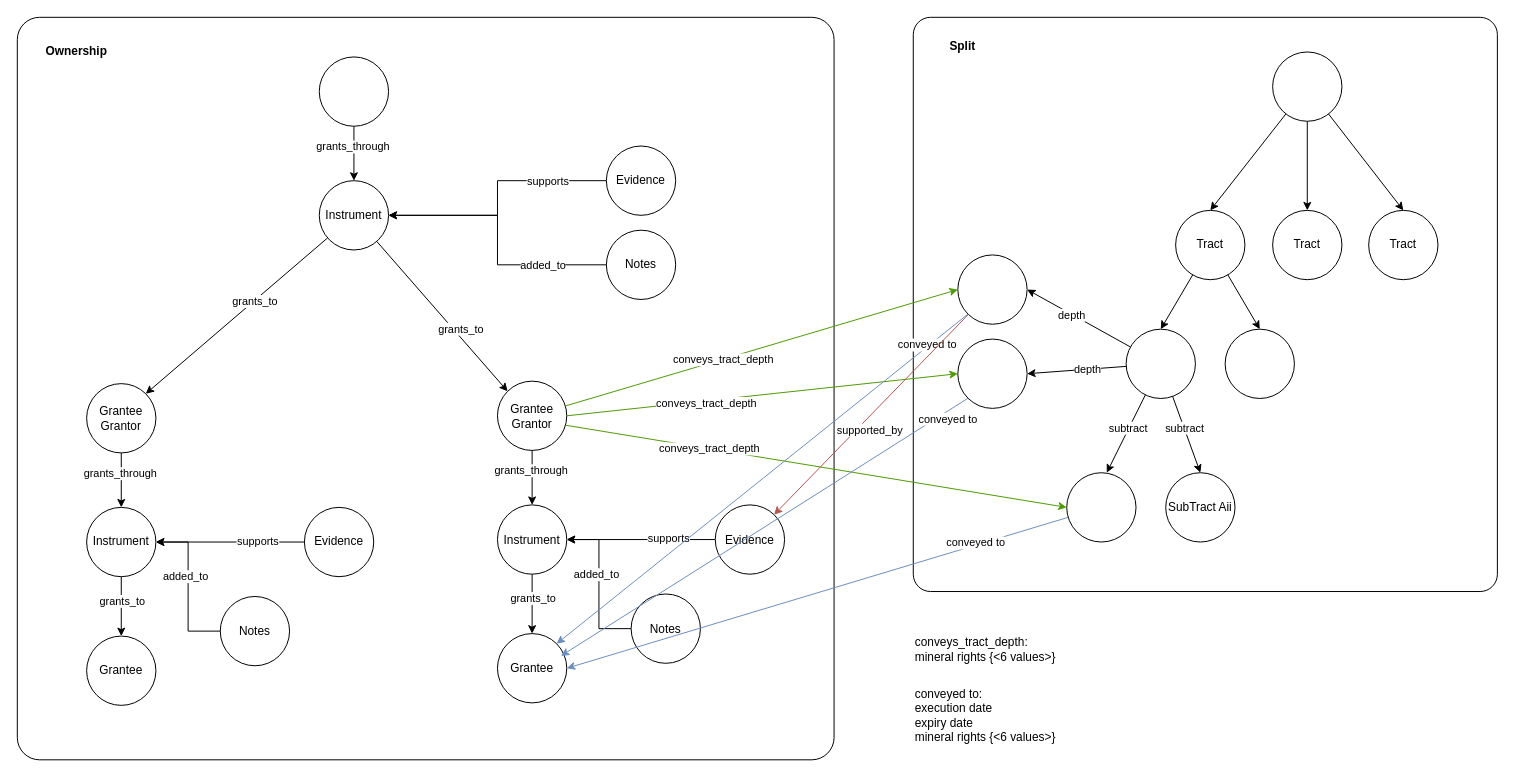
Some shapes in this 1515 by 777 pixel diagram are drawn without their labels. The box of each missing label's shape, as (x1, y1, x2, y2) in pixels:
Depth-1: (957, 254, 1027, 324)
Depth-2: (957, 338, 1027, 408)
Grantor: (318, 56, 389, 126)
Parcel: (1272, 51, 1342, 121)
SubTract A: (1125, 328, 1195, 398)
SubTract Ai: (1066, 472, 1136, 542)
SubTract B: (1224, 328, 1294, 398)
